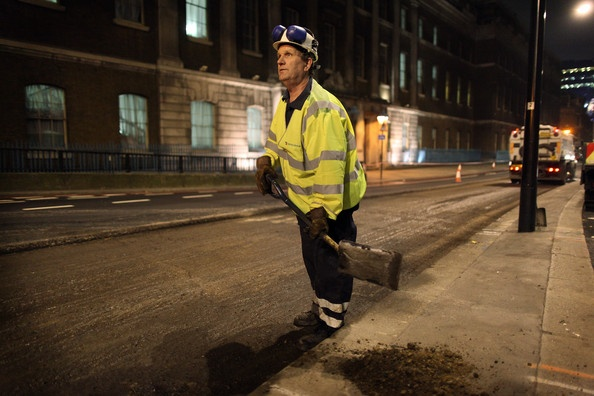white: (274, 26, 318, 87)
